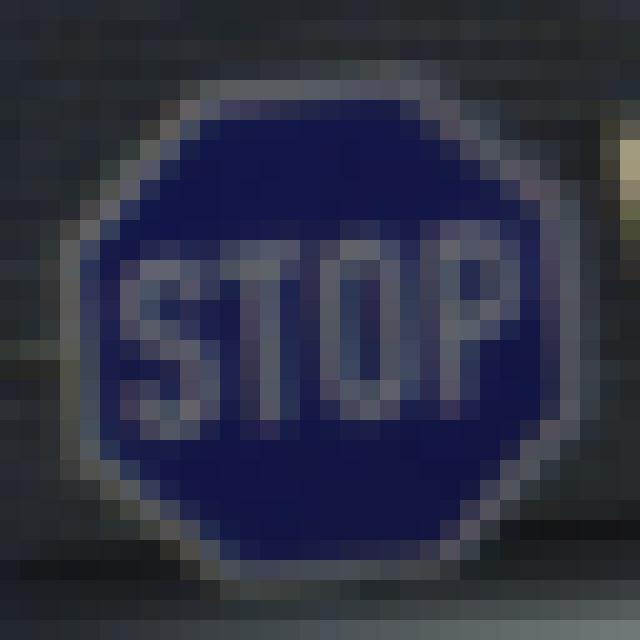STOP: (72, 85, 592, 582)
